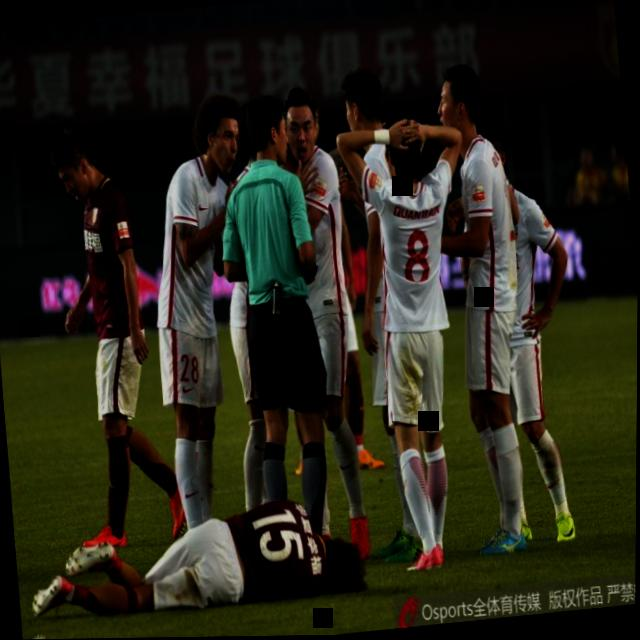Fall-Detected: (20, 480, 384, 636)
